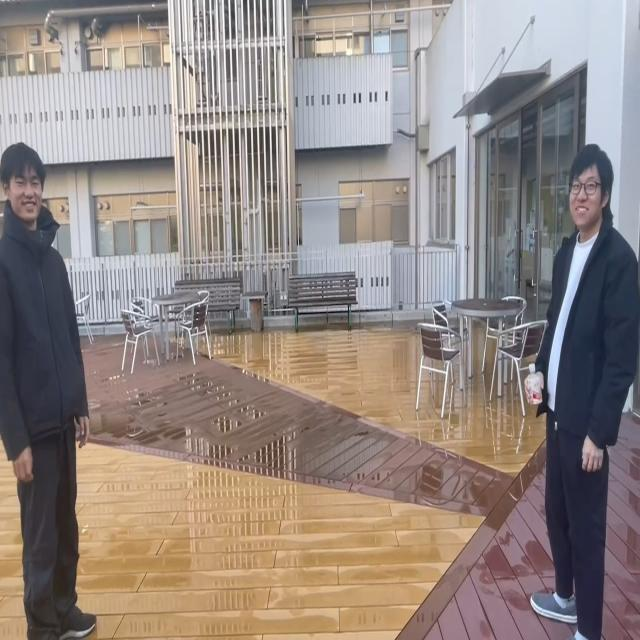bottle: (526, 363, 542, 404)
